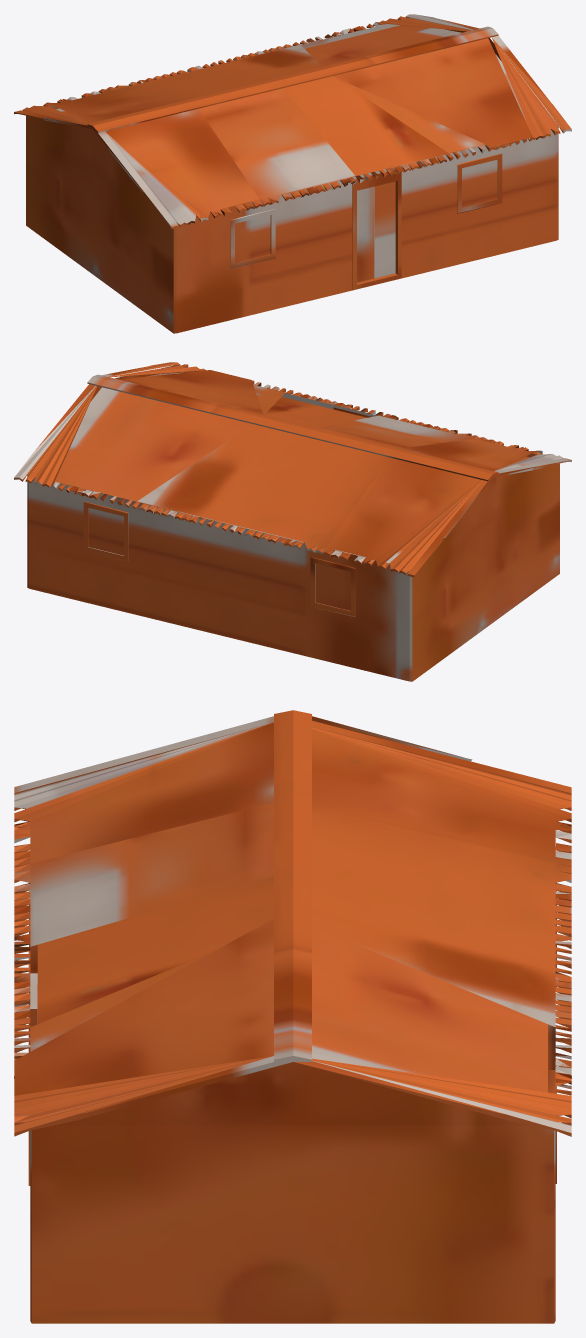
The model's file is bedeng.obj.
The picture shows the model from 3 angles, top to bottom: view 1: azimuth 30°, elevation 25°; view 2: azimuth 150°, elevation 25°; view 3: azimuth 270°, elevation 25°; orthographic projection. The views are drawn at different scales.
Visible parts, largest first — view 1: texture_pbr_v128; view 2: texture_pbr_v128; view 3: texture_pbr_v128.
Boxes of the visible parts, box(x1,y1,x2,y2) form: texture_pbr_v128: box(14, 14, 571, 333); texture_pbr_v128: box(14, 362, 571, 681); texture_pbr_v128: box(14, 710, 571, 1323).
Size of the model in its own units: 0.9829 by 0.3643 by 0.6697.
